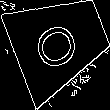O_NE: (31, 13, 88, 72)
